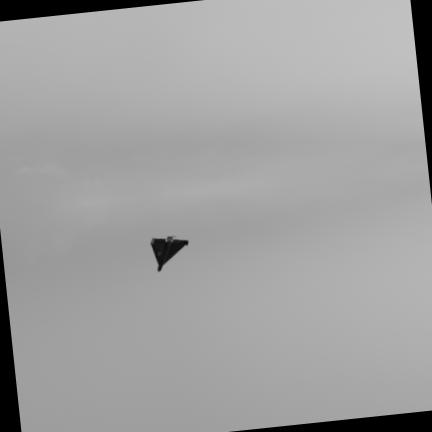Shahed: (152, 236, 188, 271)
